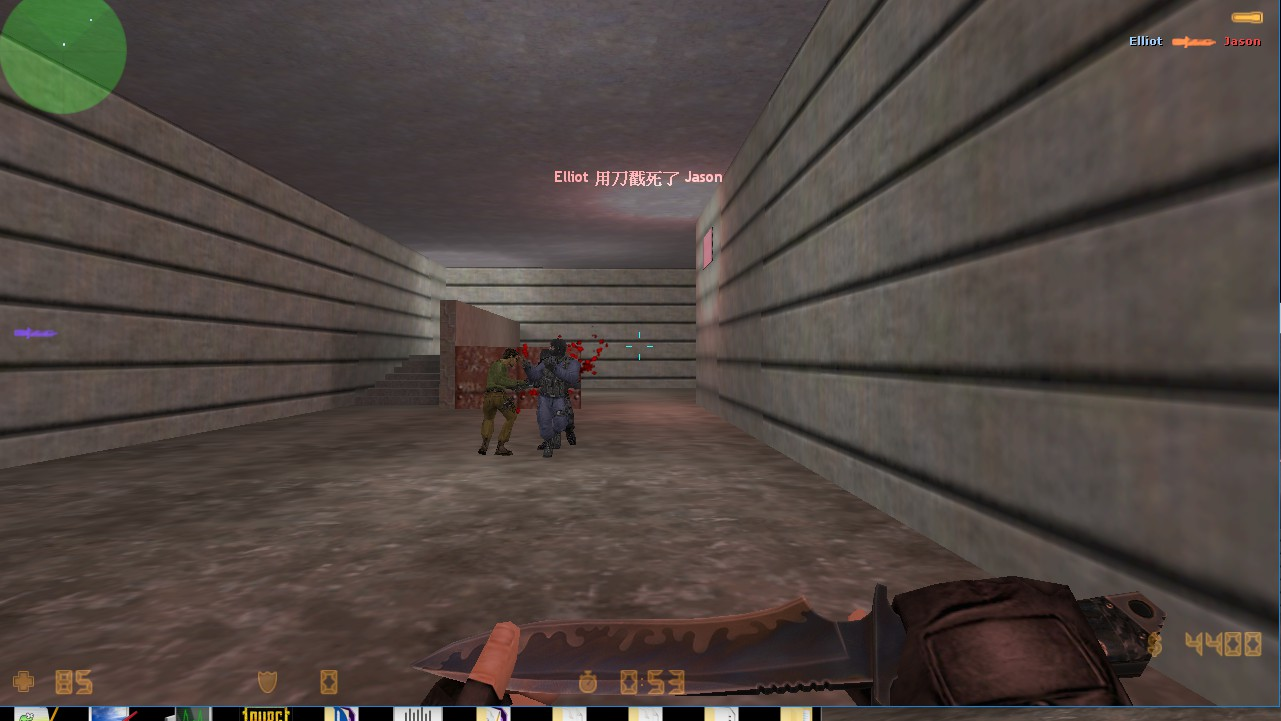person: (527, 338, 582, 464), (480, 347, 522, 463)
